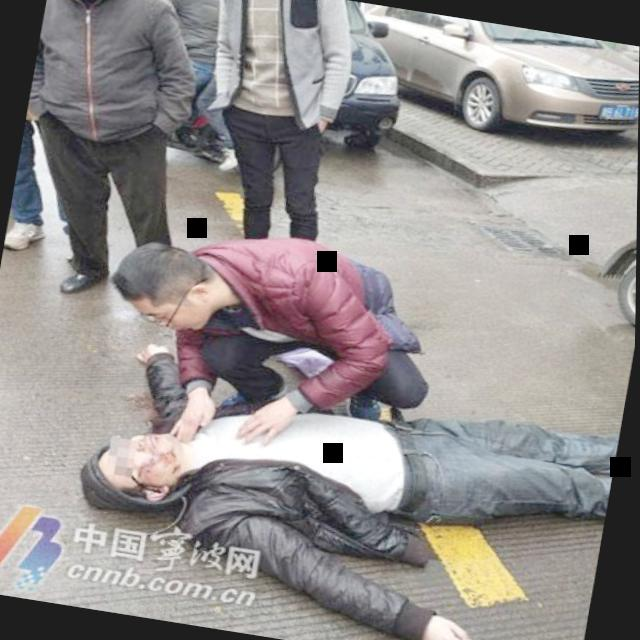Fall-Detected: (33, 304, 628, 640)
